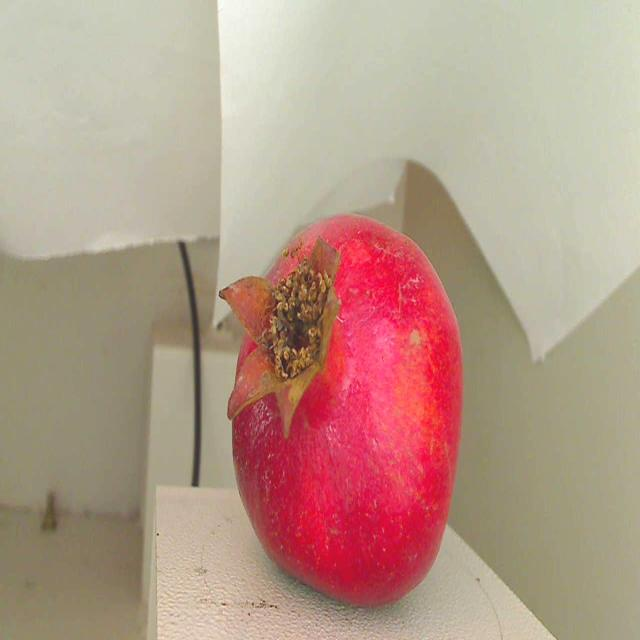pomegranate: (210, 211, 475, 625)
